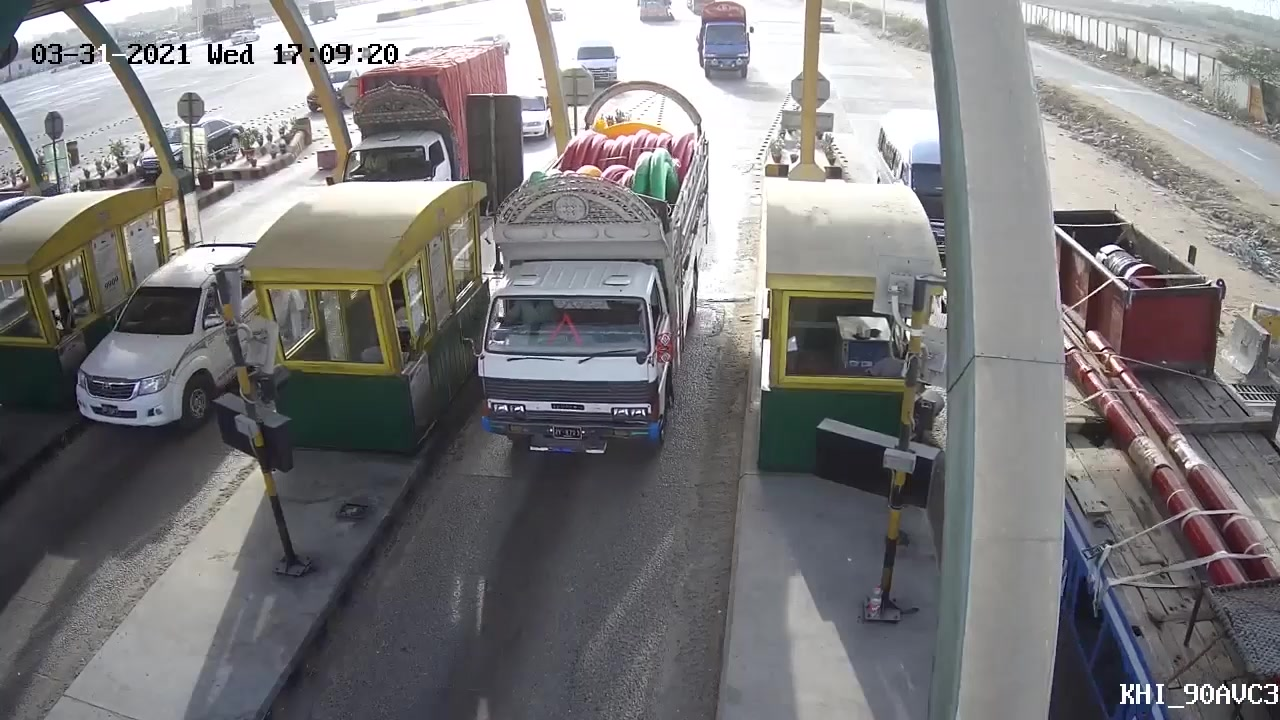F4: (461, 103, 714, 473)
